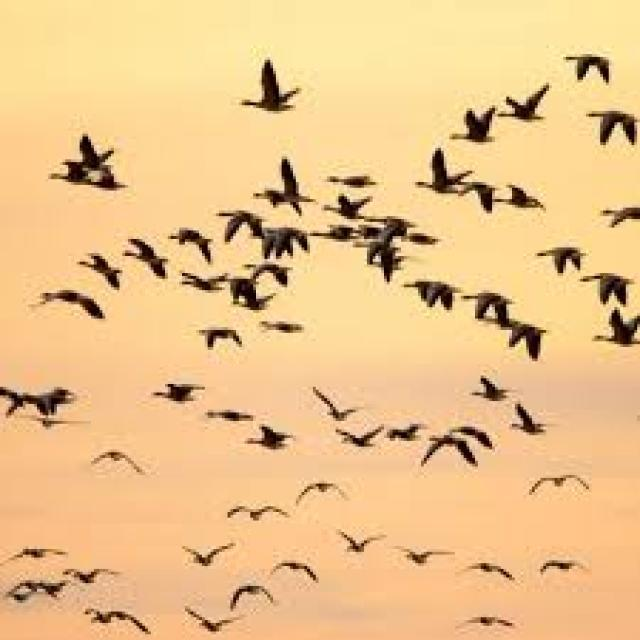bird: (196, 46, 307, 140), (498, 78, 558, 141), (216, 491, 296, 536), (242, 158, 316, 206), (542, 44, 619, 90), (47, 273, 126, 316), (72, 236, 132, 290), (297, 377, 368, 422), (464, 357, 526, 408), (77, 602, 168, 636), (118, 232, 175, 286), (514, 465, 600, 499), (290, 470, 356, 514), (90, 441, 156, 484), (450, 100, 498, 156), (208, 186, 262, 235), (530, 548, 596, 588), (236, 411, 296, 454), (13, 572, 76, 612), (404, 273, 458, 319), (420, 435, 482, 475), (165, 218, 219, 263), (391, 538, 457, 574), (330, 523, 381, 569), (263, 219, 314, 265), (166, 266, 229, 303), (360, 202, 422, 239), (459, 553, 516, 593), (5, 532, 76, 564), (320, 170, 386, 204), (237, 258, 303, 292), (500, 179, 560, 216), (465, 280, 525, 317), (445, 410, 488, 458), (498, 404, 558, 438), (66, 126, 112, 170), (461, 601, 524, 633), (65, 558, 131, 588), (150, 371, 203, 408), (274, 554, 323, 594), (583, 316, 640, 350), (180, 606, 240, 638), (404, 148, 452, 188), (530, 237, 590, 269), (384, 406, 427, 450), (200, 320, 240, 366), (495, 321, 552, 353), (332, 426, 388, 458), (21, 407, 84, 435), (205, 400, 259, 432), (176, 539, 242, 565), (587, 111, 636, 145), (246, 317, 306, 343), (232, 580, 280, 612), (38, 157, 84, 190), (580, 270, 632, 299), (88, 164, 137, 189)
